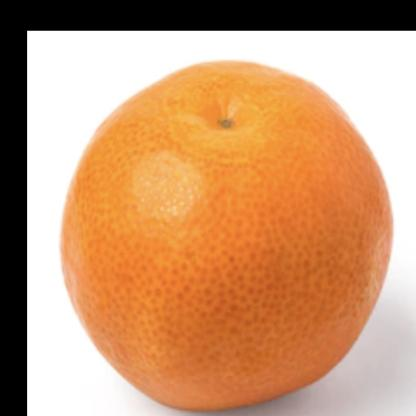rotten: (61, 49, 394, 416)
